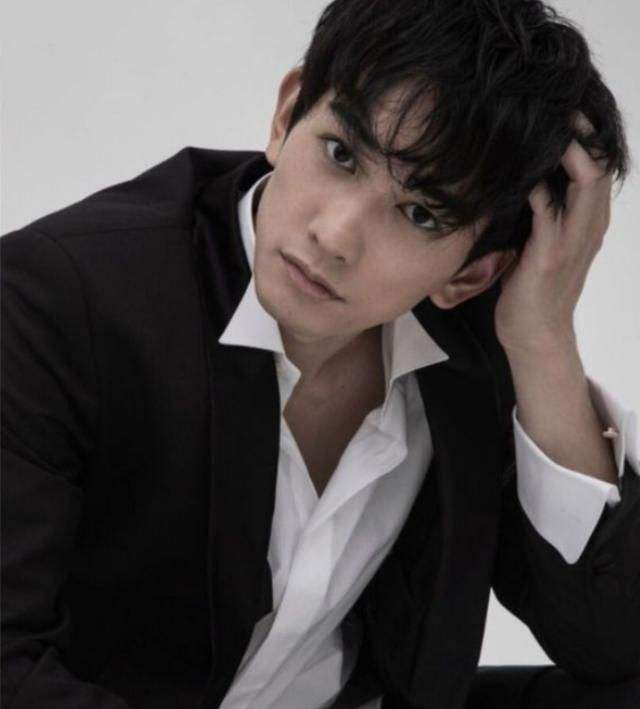person: (50, 24, 640, 666)
